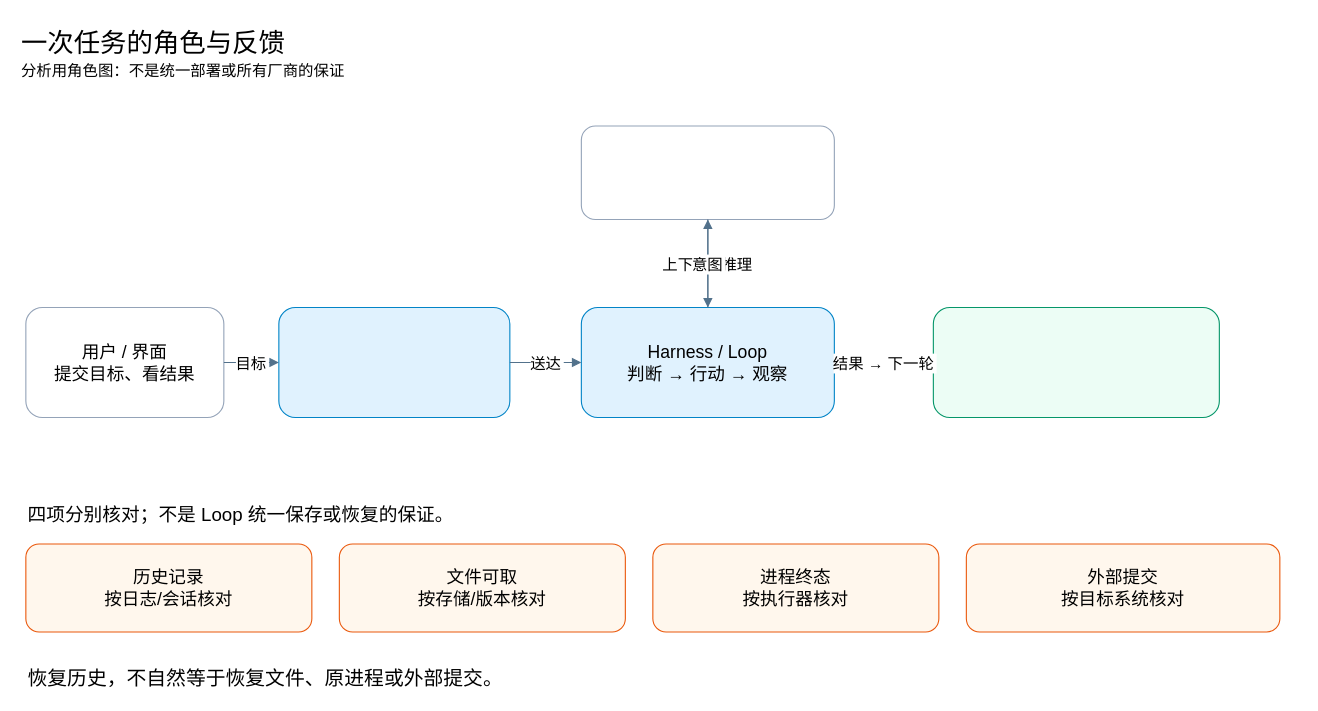
Image size: 1318x711. Some labels were removed from this diagram. Here are the shapes that lost their labels. From the top down, the centre of each, then its label:
At [707,172]: "模型服务 产生下一步意图".
At [394,361]: "控制职责 受理、环境选择、停止".
At [1075,361]: "Sandbox / 工具环境 代码、文件、浏览器、进程".
